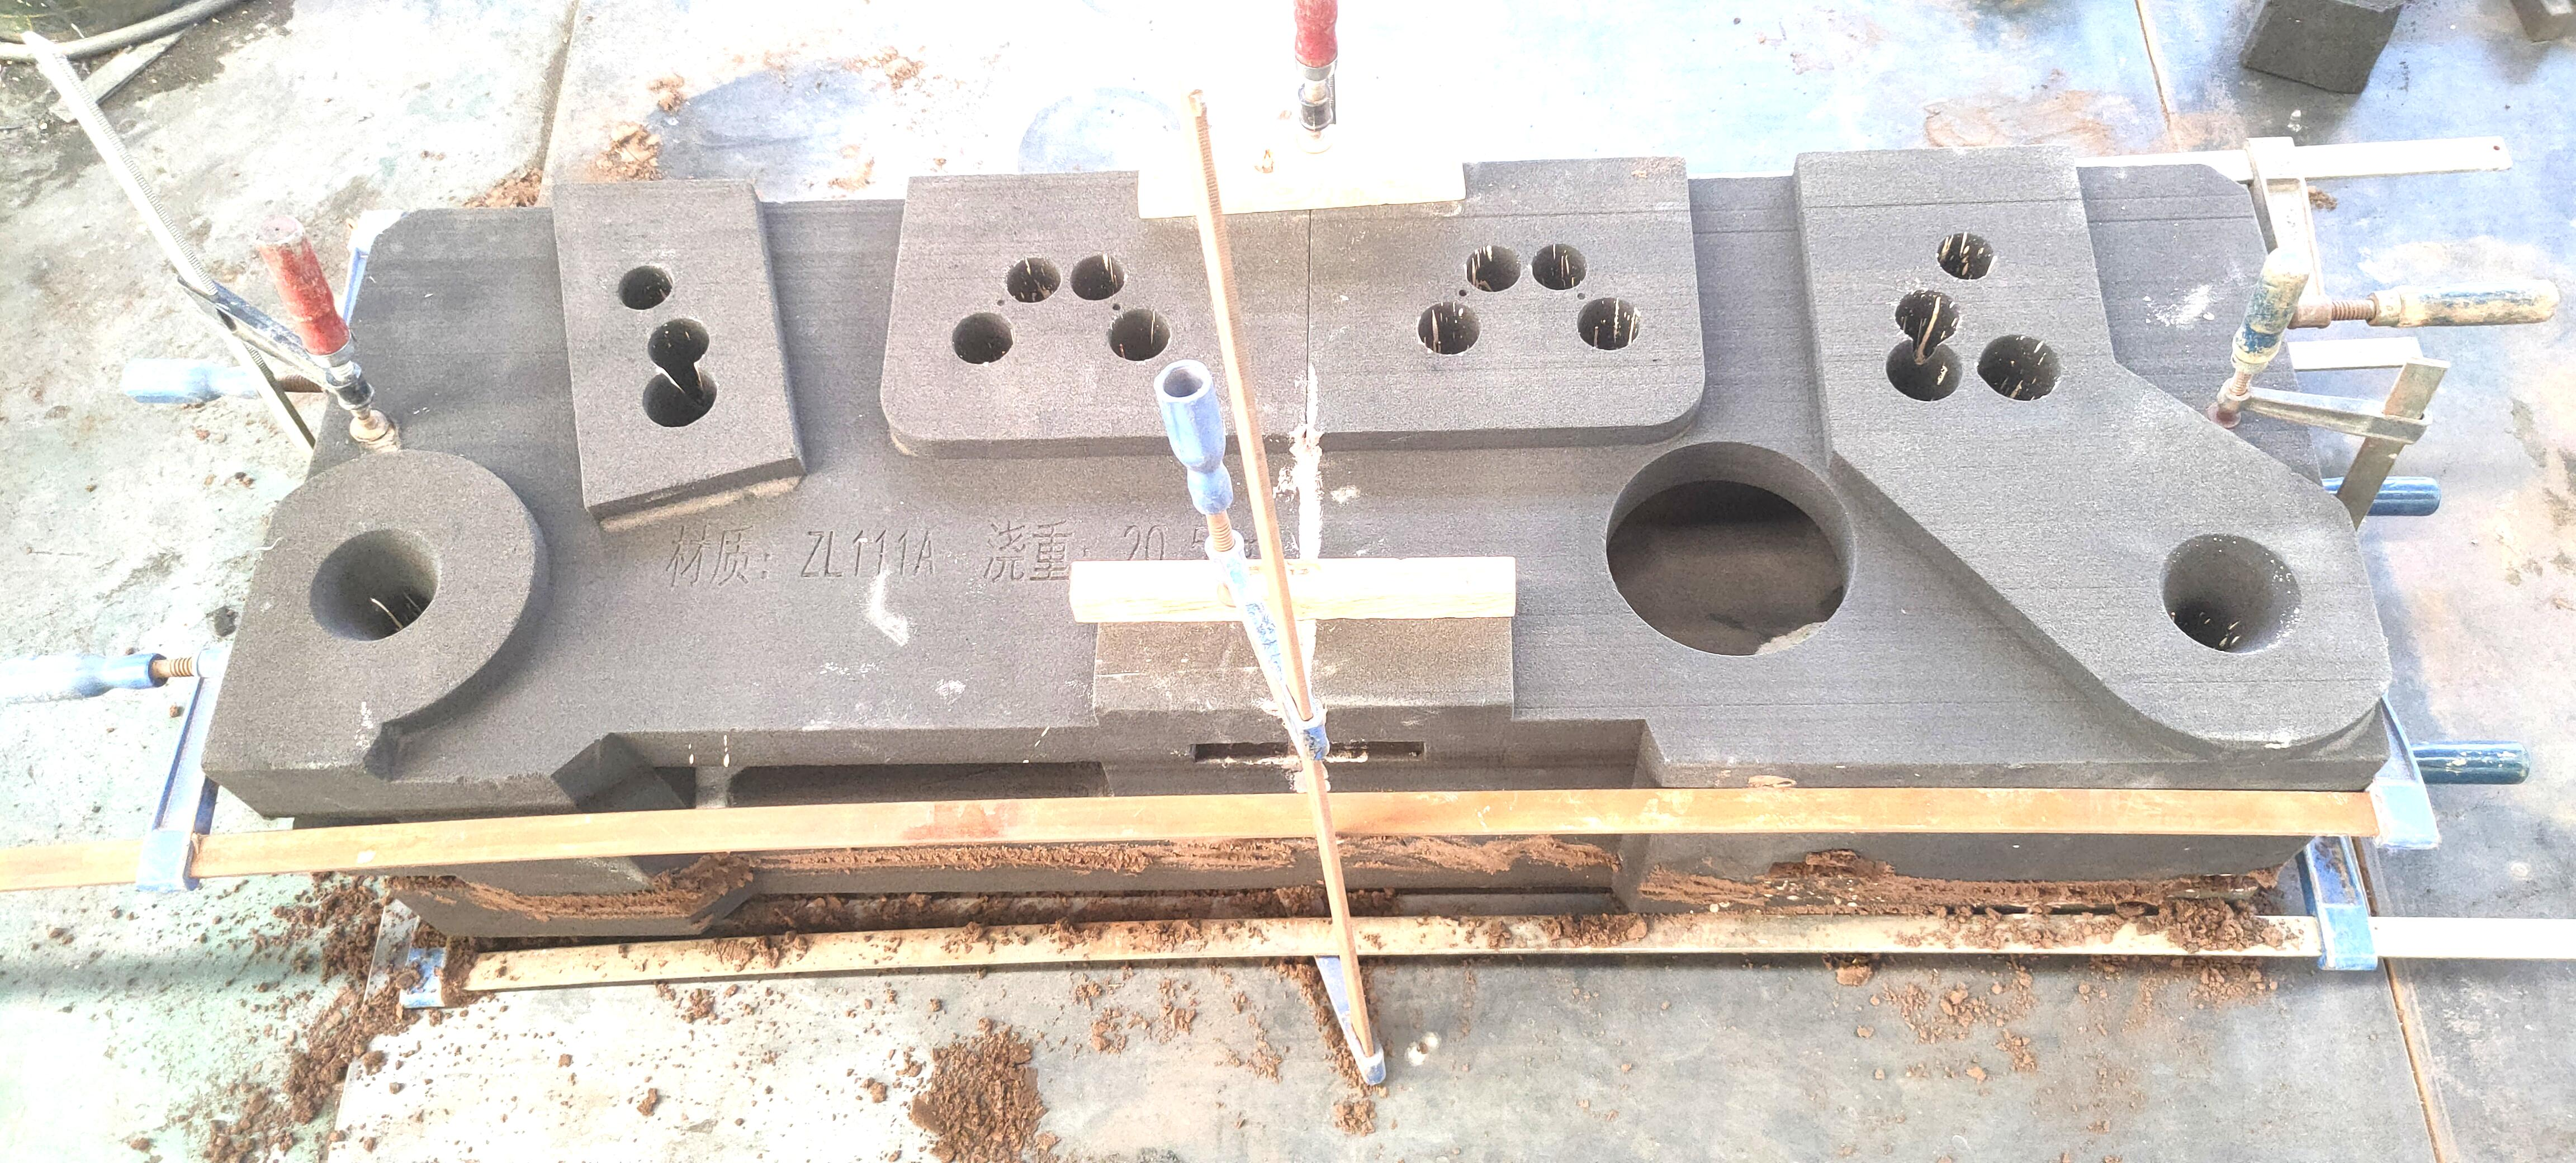pouring hole: (2155, 532, 2305, 657), (306, 524, 442, 644)
